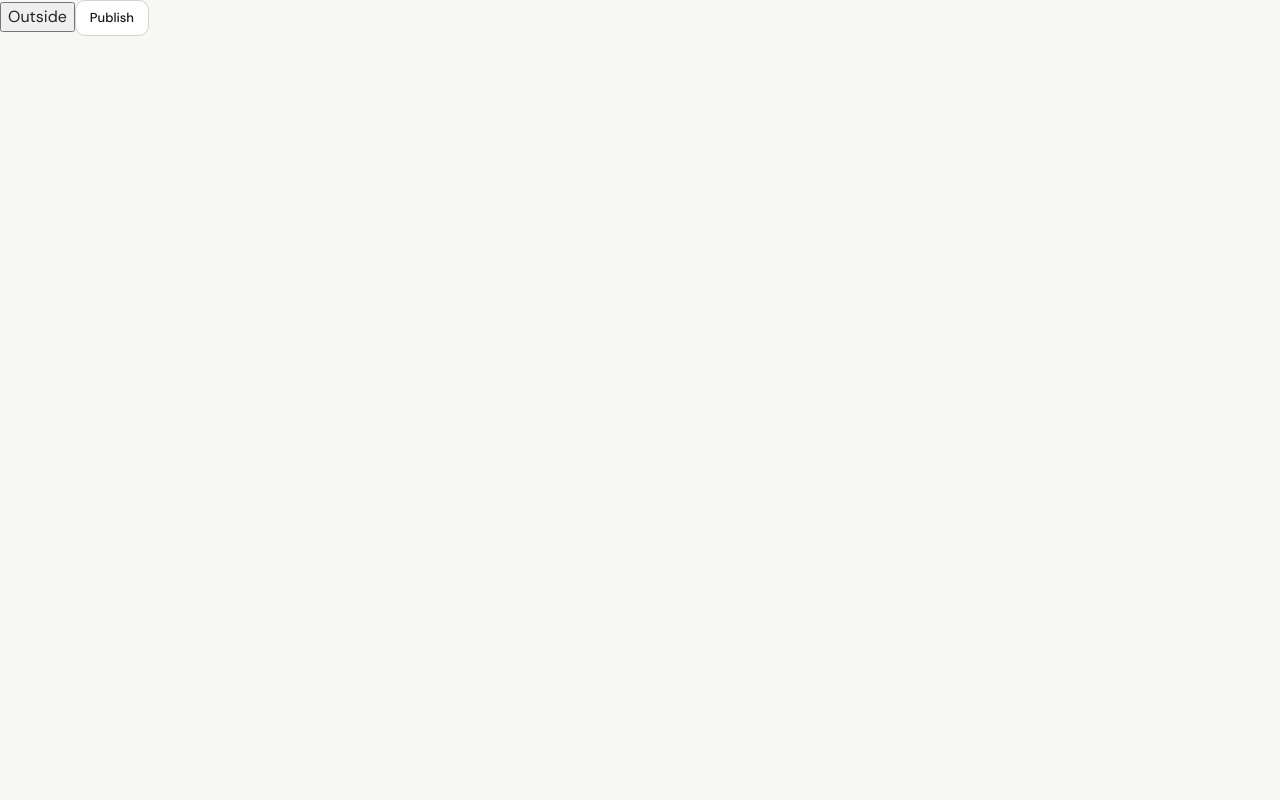
Test: Popover › closes when the pointer or focus goes elsewhere
Later steps or results of the test are not shown.
Click the button "Publish": [112, 18] box x1=75 y1=0 x2=149 y2=36
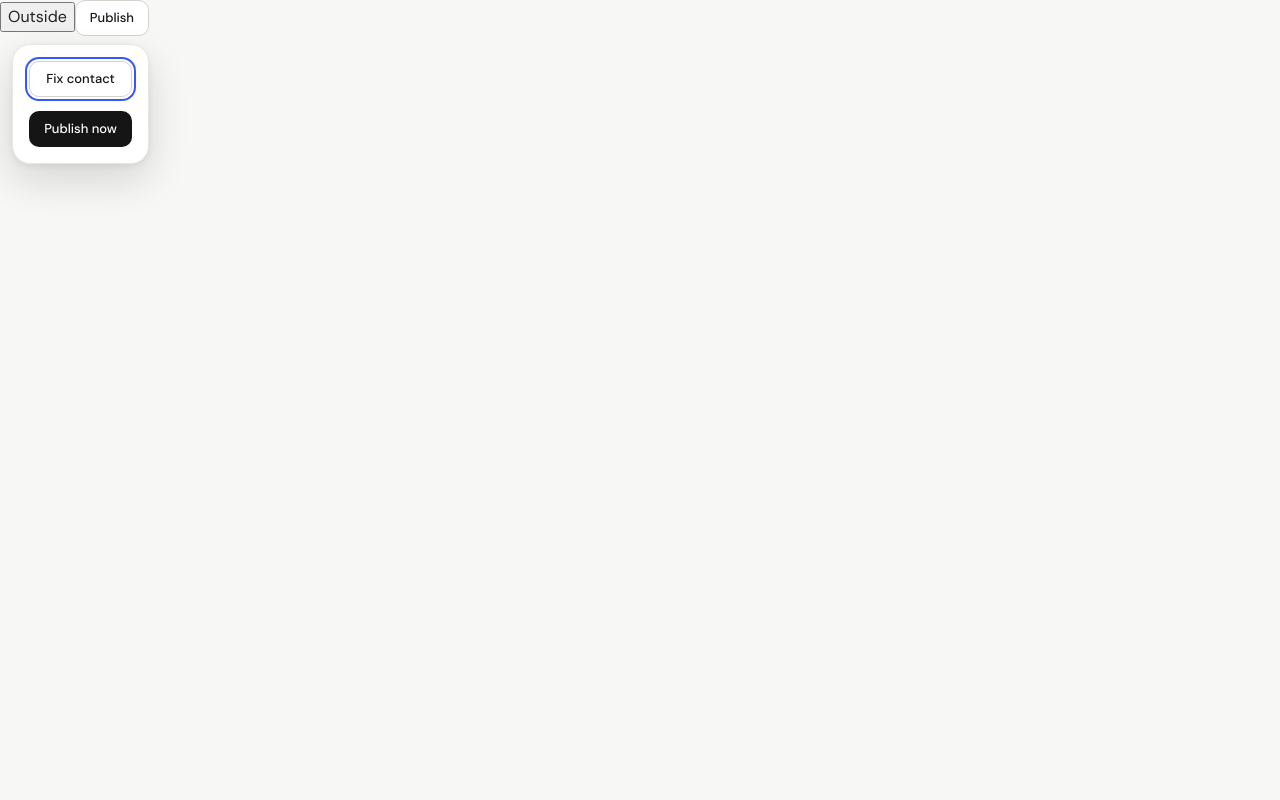
Press the mouse on the element showing "Outside Publish Fix contact Publish now": [640, 18] box x1=0 y1=0 x2=1279 y2=36
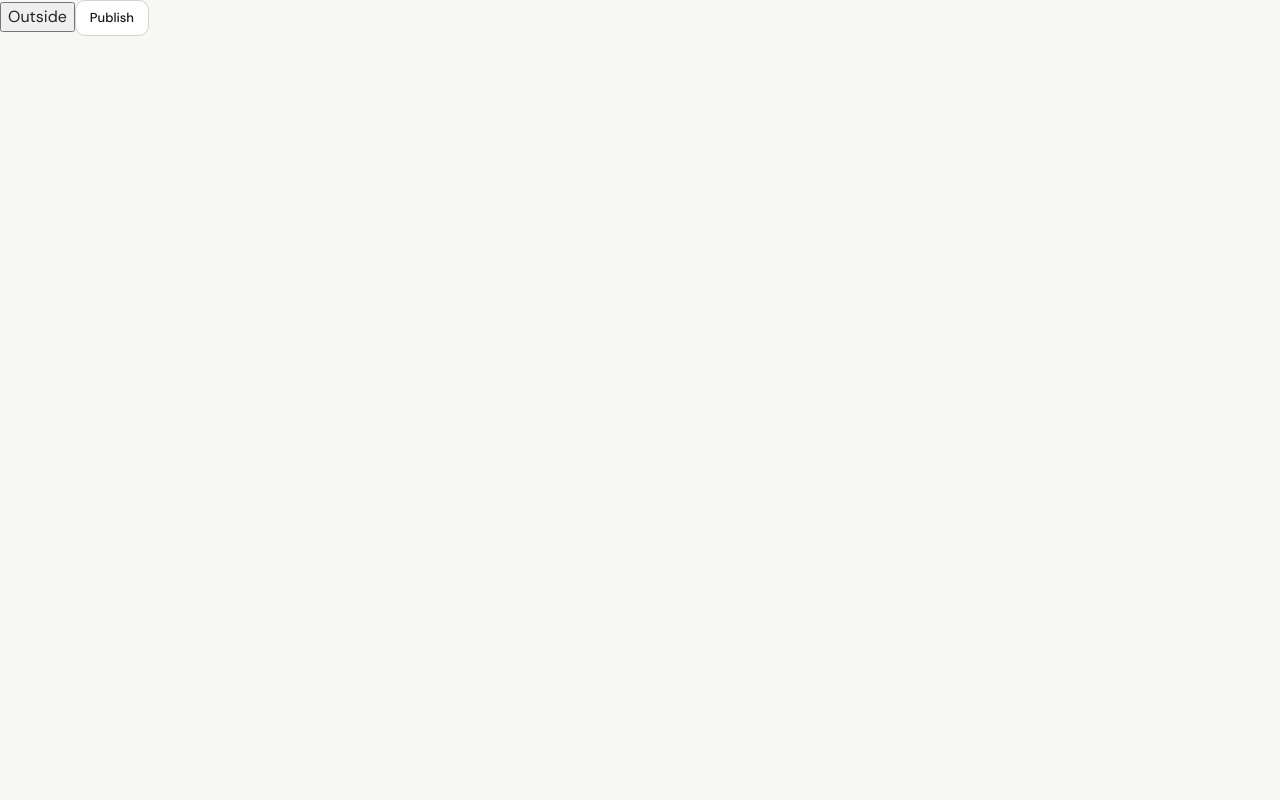
Expected: the dialog is gone
